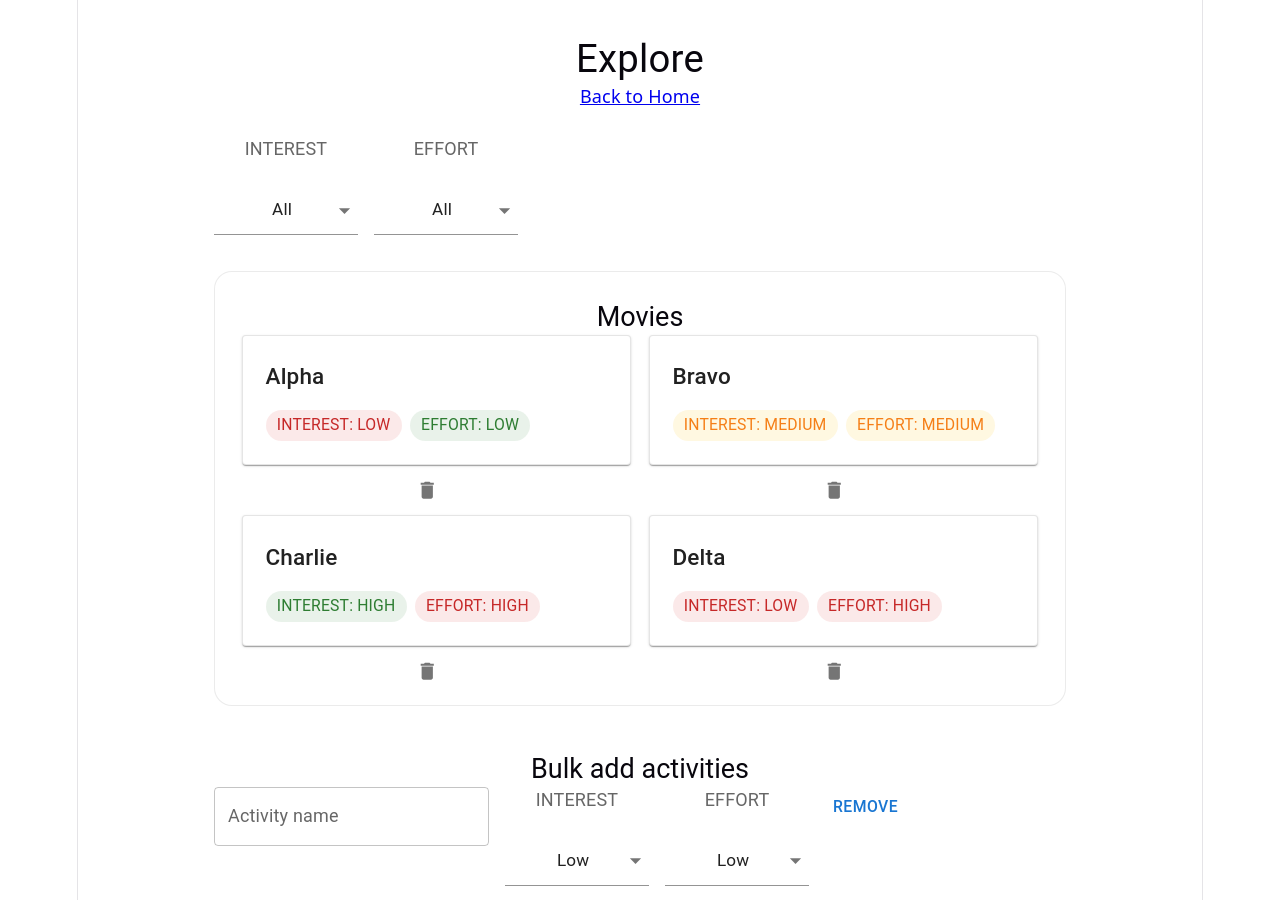
Test: ExplorePage › filters by at-most effort
The image size is (1280, 900).
Check: the heading "Alpha" is shown, box x1=266 y1=363 x2=324 y2=389
Step 1. Press the mouse on the 2nd dropdown labelled "All" → [442, 209], box x1=432 y1=199 x2=452 y2=219
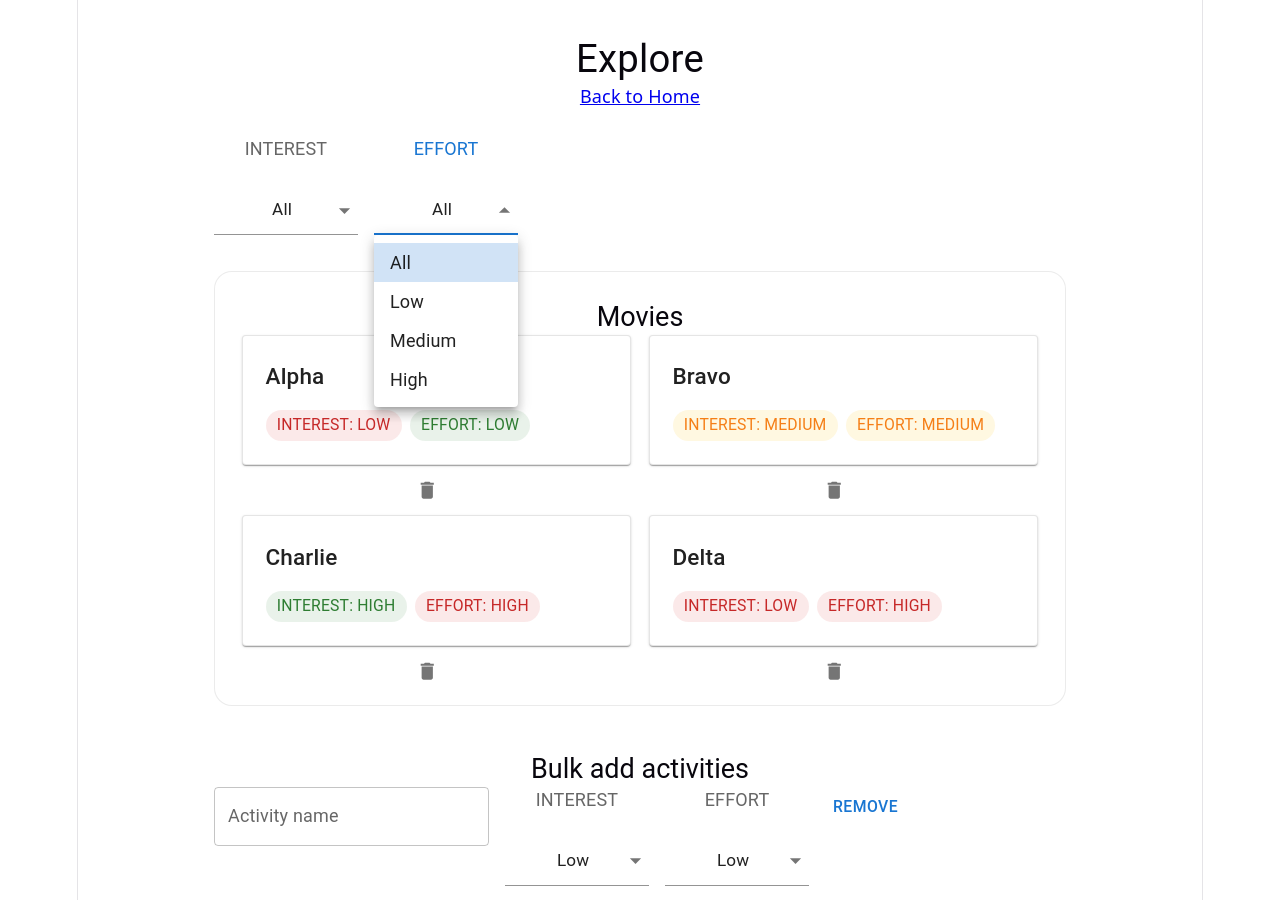
Step 2. Click the option "Medium" → [423, 340], box x1=390 y1=330 x2=456 y2=351
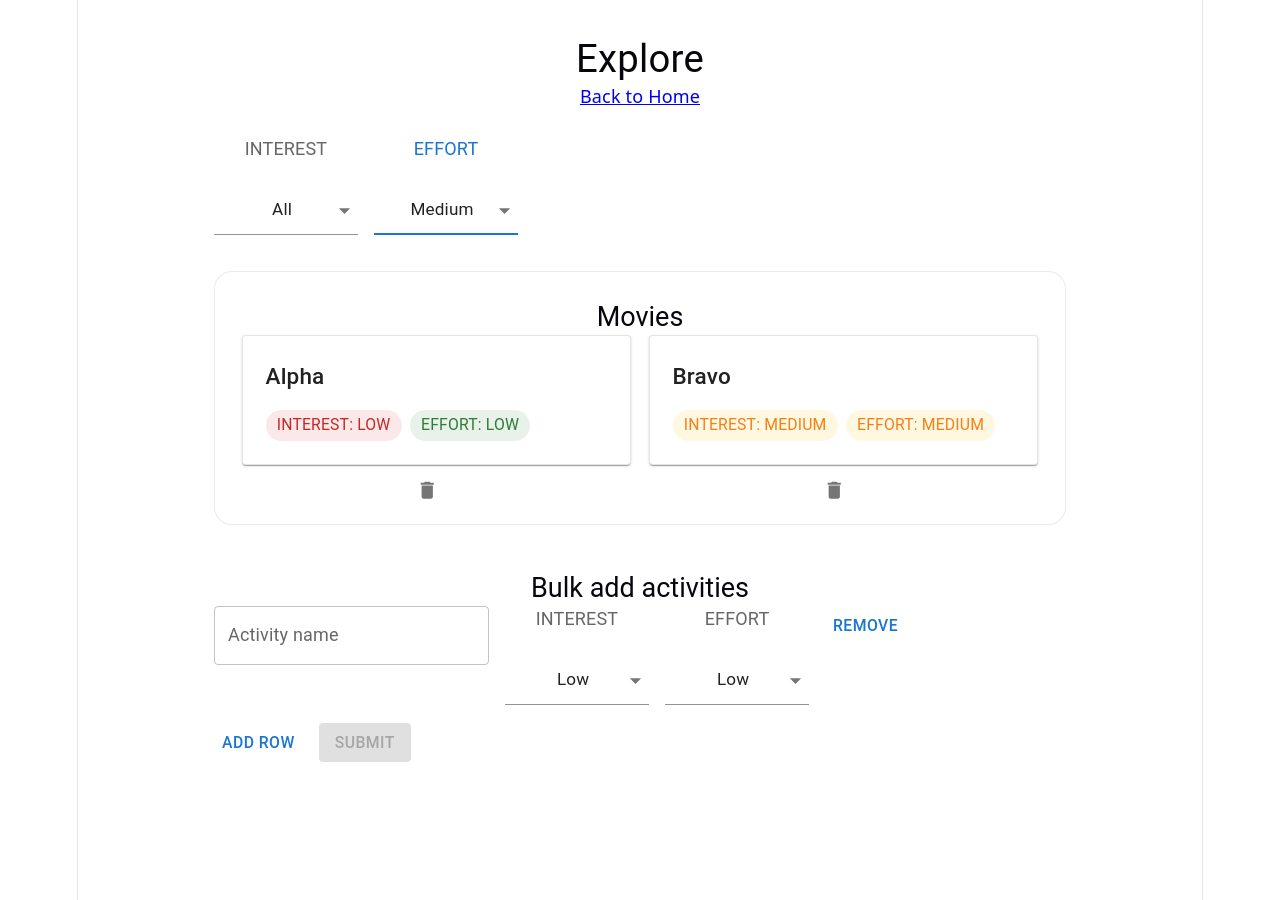
Check: the heading "Alpha" is shown, box x1=266 y1=363 x2=324 y2=389
Check: the button "Charlie" is gone
Check: the button "Delta" is gone
